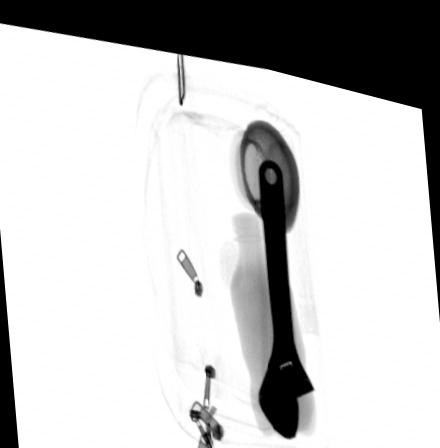Wrench: (255, 143, 318, 424)
